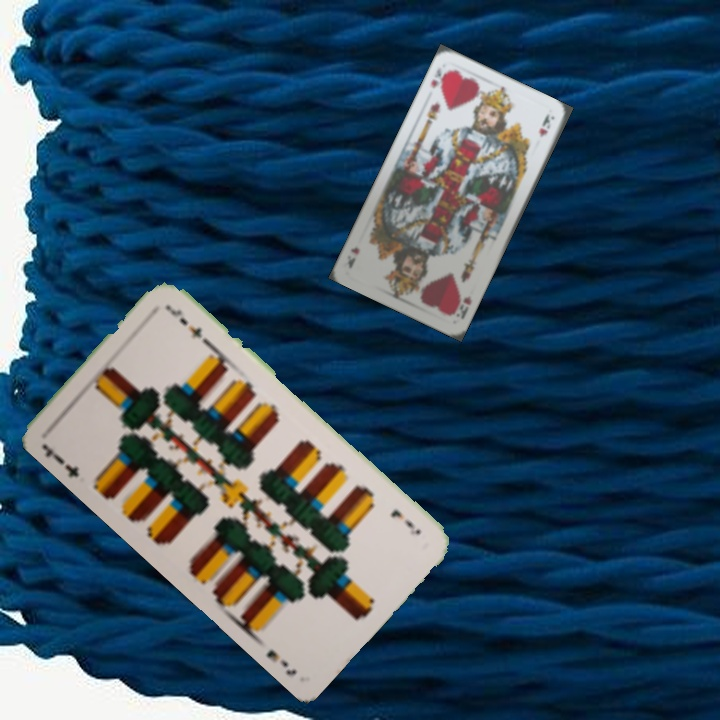E7: (38, 440, 82, 480), (386, 505, 424, 538)
HK: (427, 64, 452, 91), (452, 292, 474, 322)
